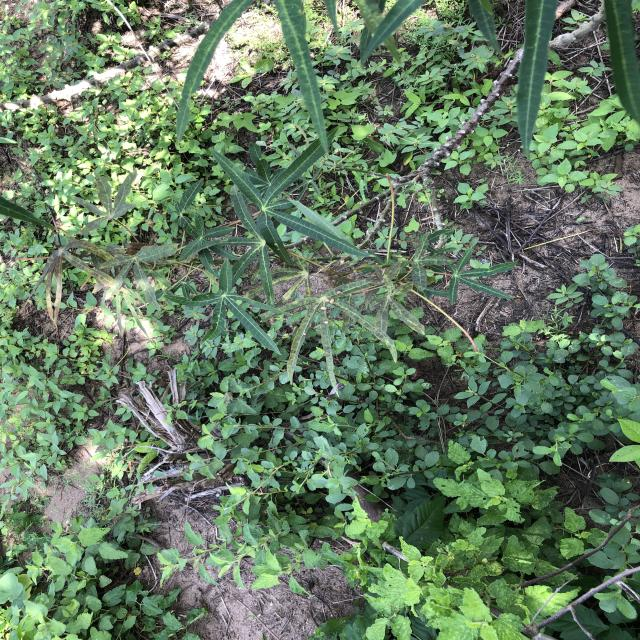Maleza: (338, 388, 640, 632), (4, 335, 174, 639), (390, 298, 640, 465)
Mosca: (319, 293, 333, 324), (271, 237, 281, 253), (299, 329, 309, 341), (336, 288, 345, 295)
